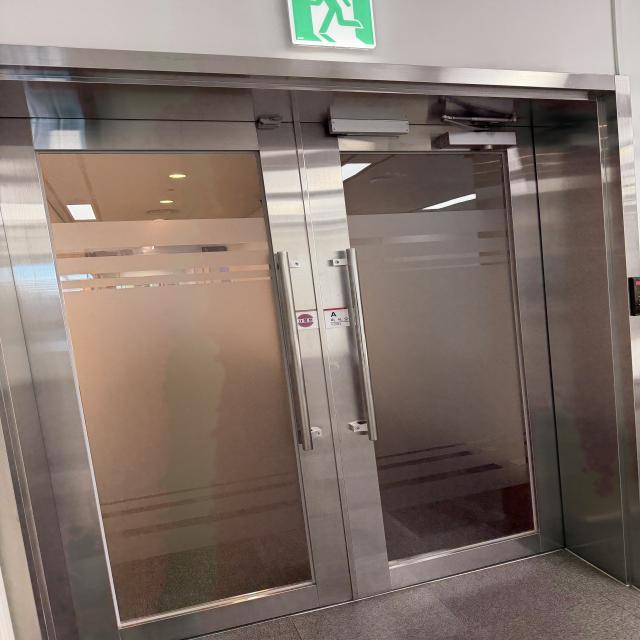rear_door: (7, 90, 564, 639)
